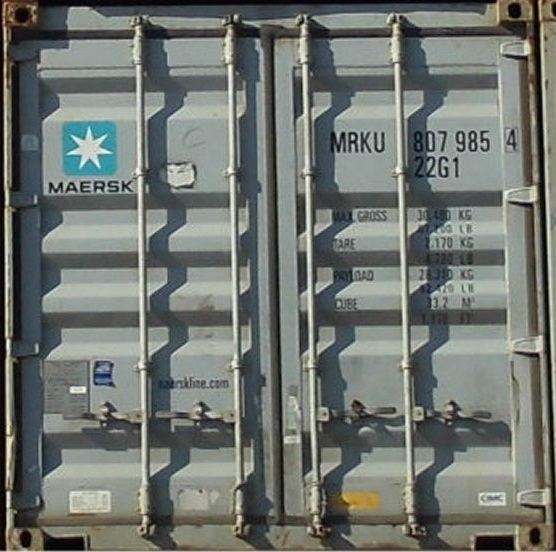container_door: (11, 3, 548, 552)
